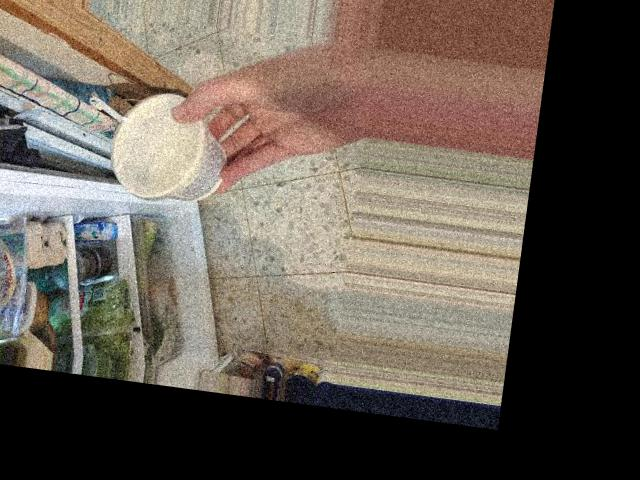cotage: (96, 93, 230, 202)
